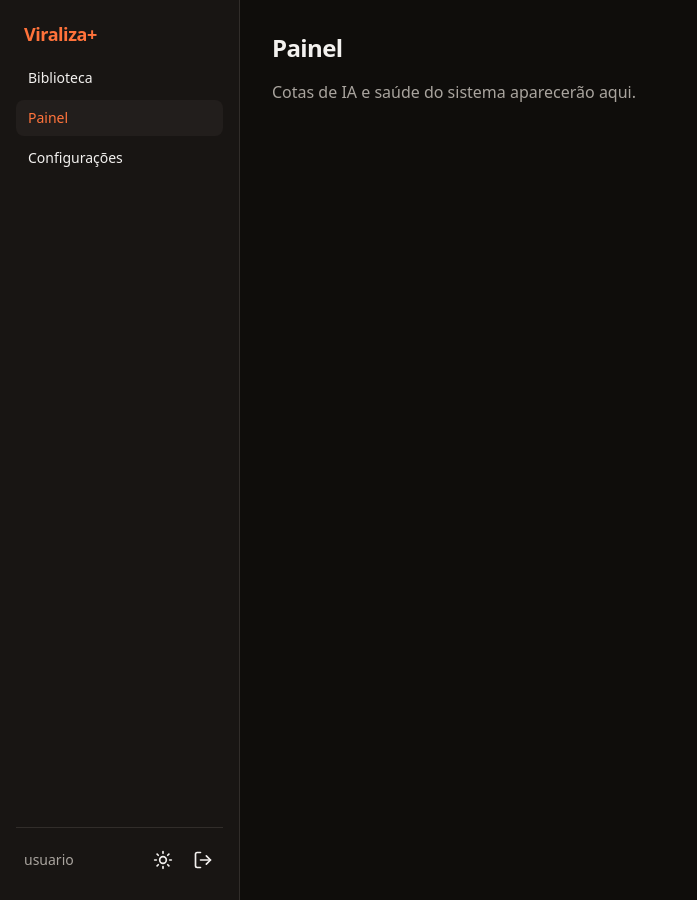
Test case: login e proteção de rotas › falha de rede no logout mantém a sessão e mostra o erro
This screenshot has width=697, height=900.
Click the button named "Sair": click(203, 860) [183,840,223,880]
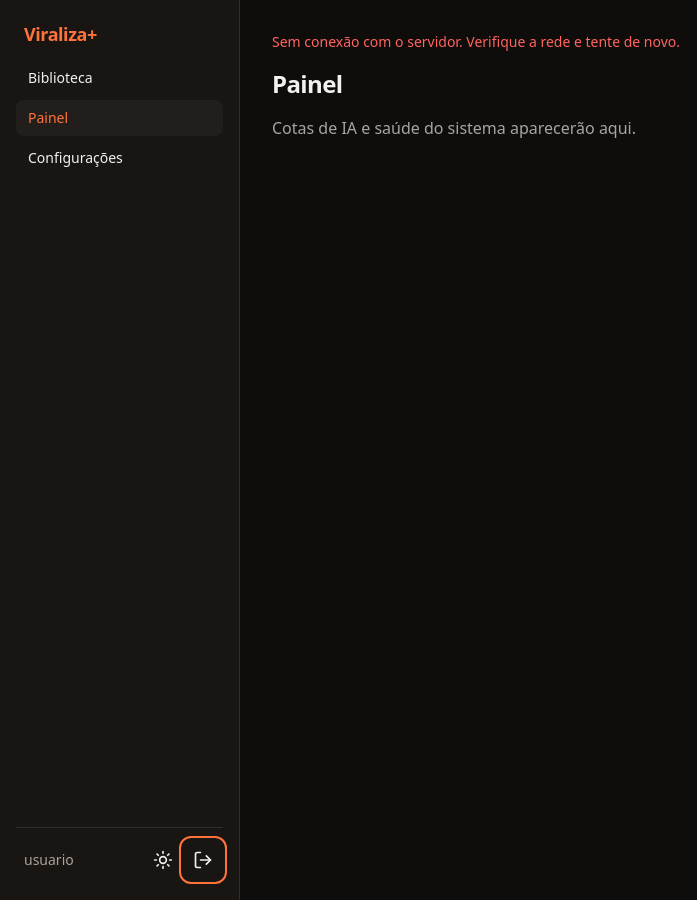
expect the message reads "Sem conexão com o servidor. Verifique a rede e tente de novo.": met, box [272,32,680,51]
